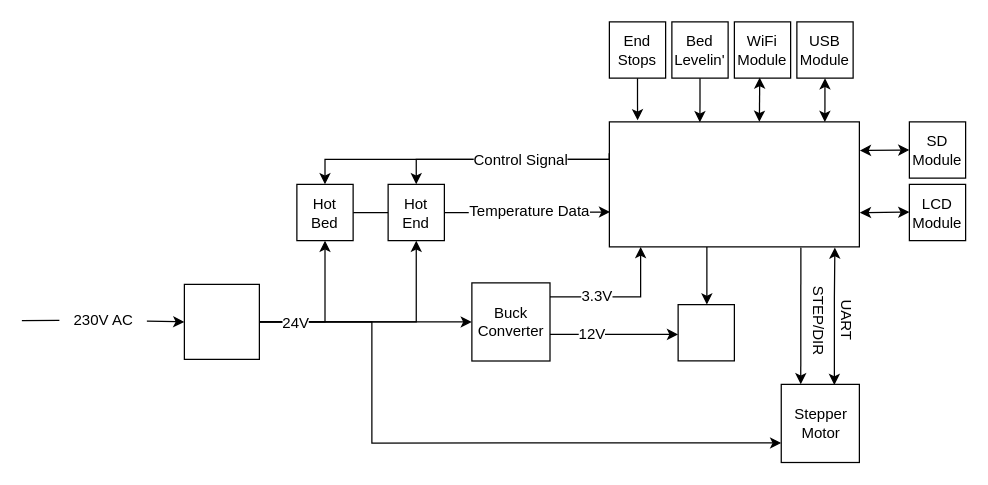
Image size: 988x485. Some labels were removed from this diagram. Each missing label, with the box of its shape:
Fans: (677, 303, 734, 361)
PSU: (183, 283, 259, 359)
STM32: (608, 121, 859, 247)
